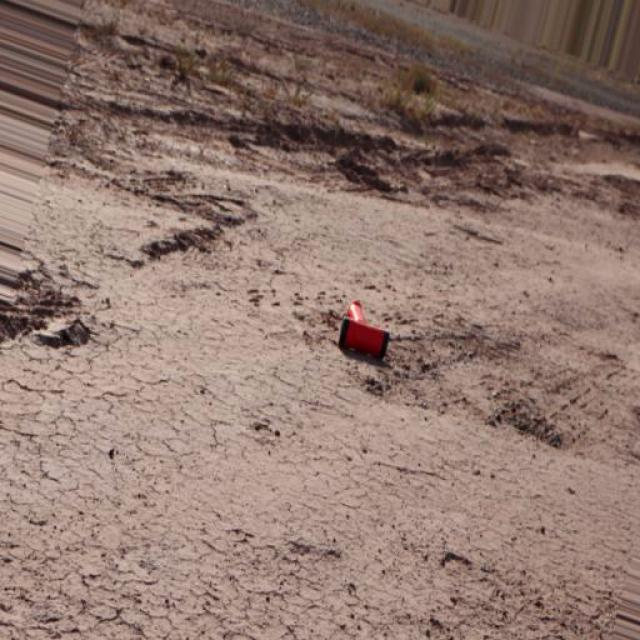mallet: (338, 298, 392, 360)
